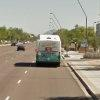Bus: (31, 30, 63, 69)
